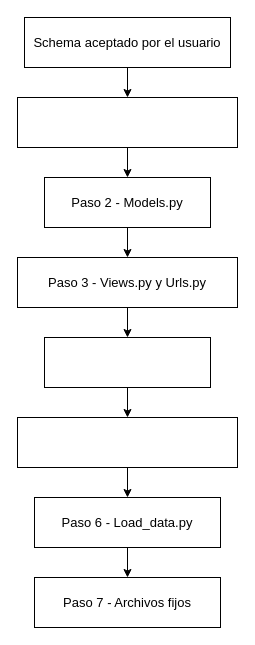
This 255x645 diagram has some shape labels left out. The centre of each missing label's shape, as x and y in pixels:
"Paso 1 - Estructura de páginas" goes at (127,122).
"Paso 4 - Base.html" goes at (127,362).
"Paso 5 - Templates por pagina" goes at (127,442).
